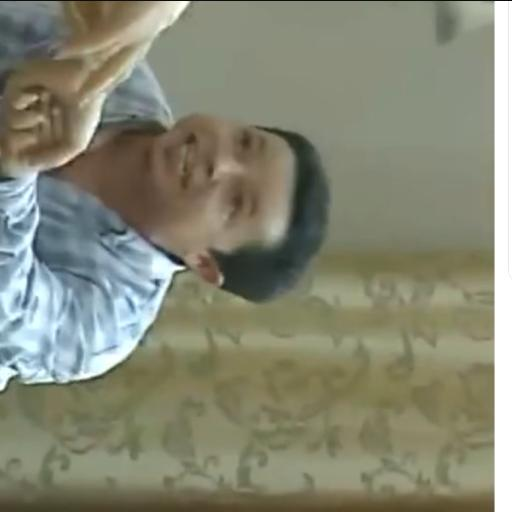fouchika: (139, 114, 330, 301)
